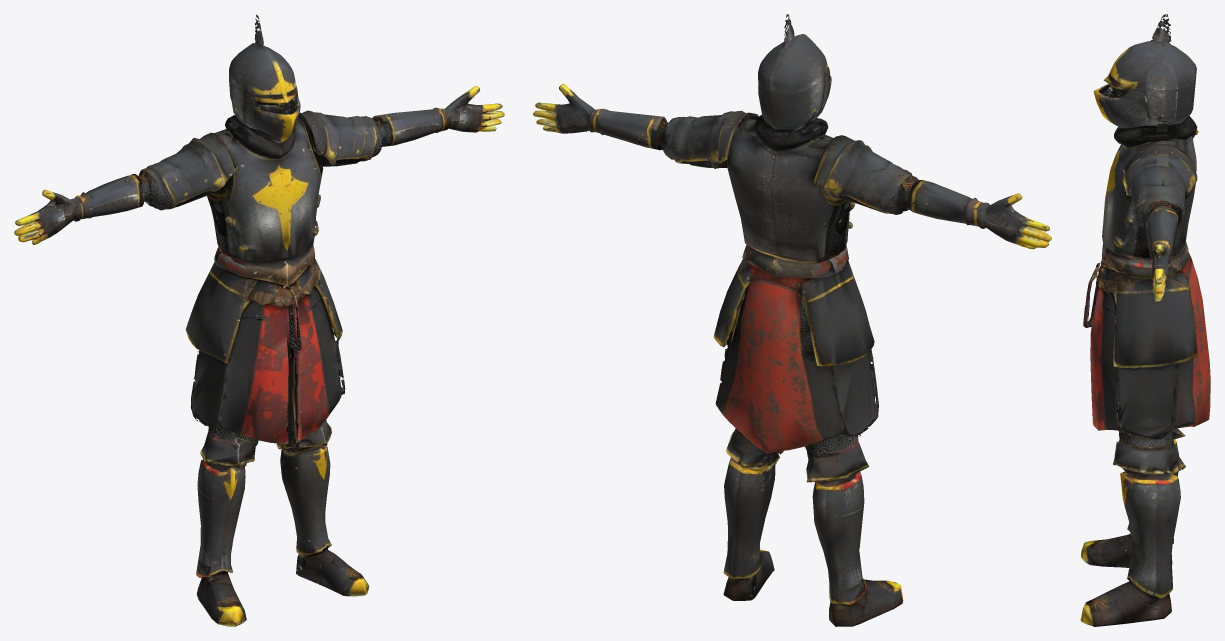
File: black-knight.glb
3 renders of one model, left to right at view 1: azimuth 30°, elevation 25°; view 2: azimuth 150°, elevation 25°; view 3: azimuth 270°, elevation 25°, orthographic. The views are drawn at different scales.
Bounding box in the file's own units: 1.81 × 2 × 0.4112.
1 material, 1 textured.
